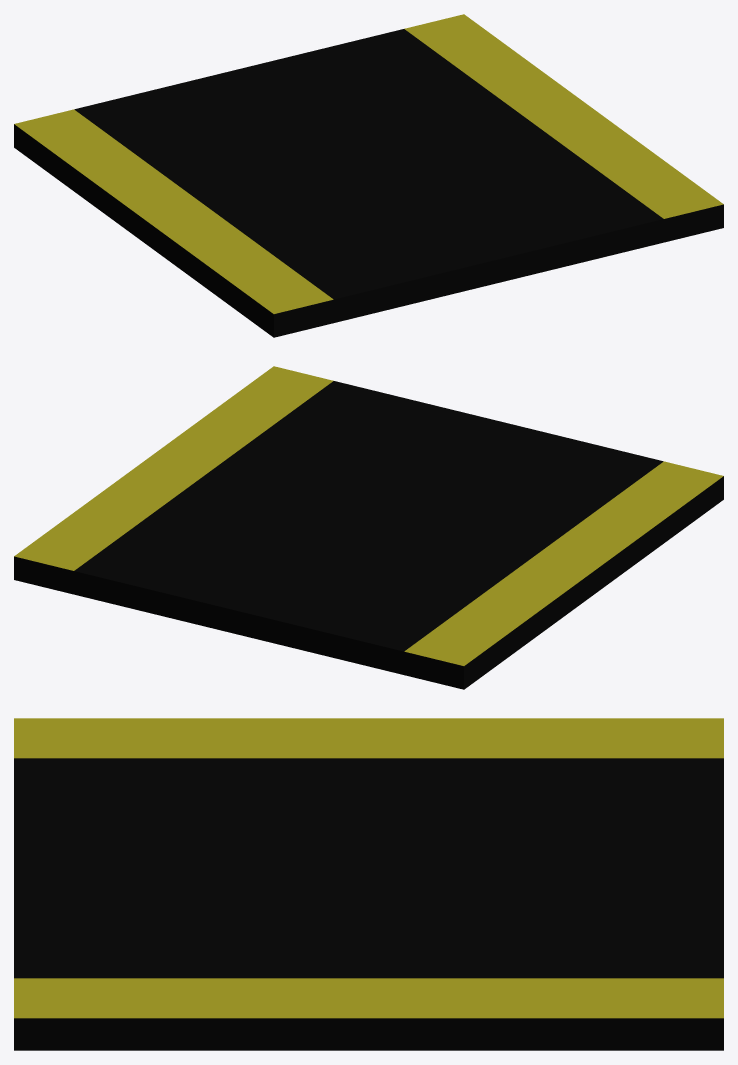
Rendered from road_broken.fbx.
The picture shows the model from 3 angles, top to bottom: view 1: azimuth 30°, elevation 25°; view 2: azimuth 150°, elevation 25°; view 3: azimuth 270°, elevation 25°; orthographic projection. The views are drawn at different scales.
Visible parts, largest first — view 1: Cube.001; view 2: Cube.001; view 3: Cube.001.
Boxes of the visible parts, <box> form: Cube.001: <box>14,14,723,337</box>; Cube.001: <box>14,366,723,689</box>; Cube.001: <box>14,718,723,1050</box>.
Size of the model in its own units: 200 by 10 by 200.
